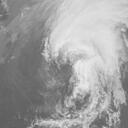cyclone: (41, 20, 117, 102)
